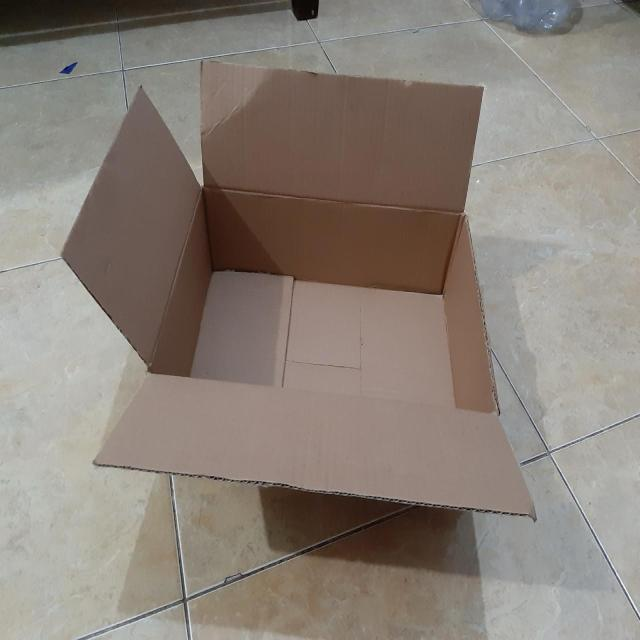Kardus: (61, 58, 537, 523), (480, 0, 582, 35)
